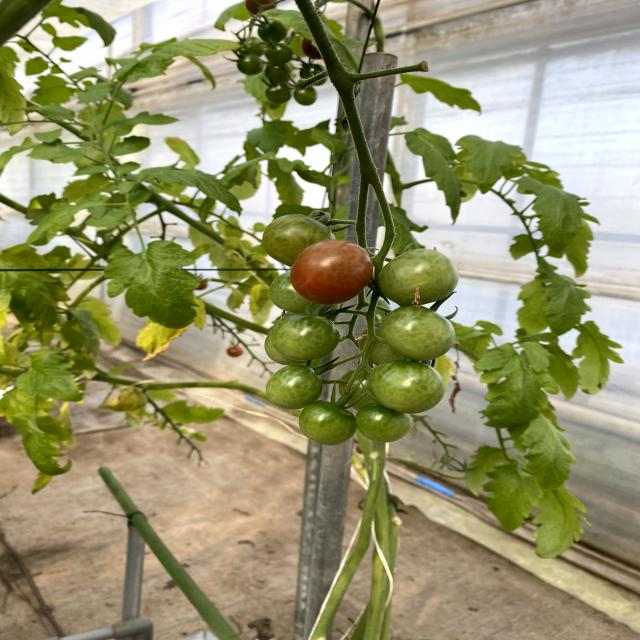ripe0: (377, 249, 458, 305), (380, 305, 455, 361), (369, 362, 447, 413), (271, 314, 341, 360), (298, 401, 357, 447), (261, 214, 314, 253), (265, 365, 313, 408), (358, 411, 414, 443)
ripe1: (289, 238, 372, 304)
